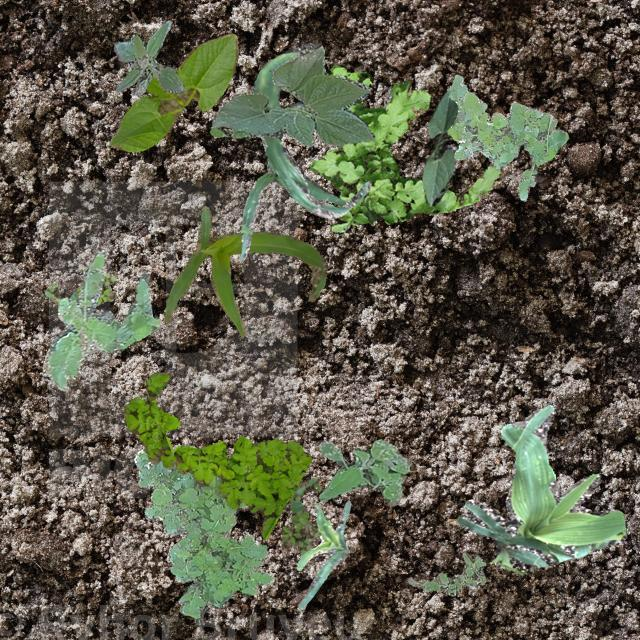crop: (456, 404, 626, 574), (162, 205, 326, 336), (252, 42, 370, 216), (208, 42, 374, 146), (109, 32, 238, 150), (238, 160, 344, 260), (296, 499, 350, 608), (422, 84, 458, 204)
weed: (308, 64, 504, 232), (122, 370, 310, 538), (134, 444, 274, 618), (42, 250, 158, 388), (446, 74, 566, 200), (318, 438, 410, 506), (112, 20, 184, 94), (406, 552, 486, 594), (280, 476, 320, 554), (44, 272, 116, 304), (178, 578, 208, 624)
